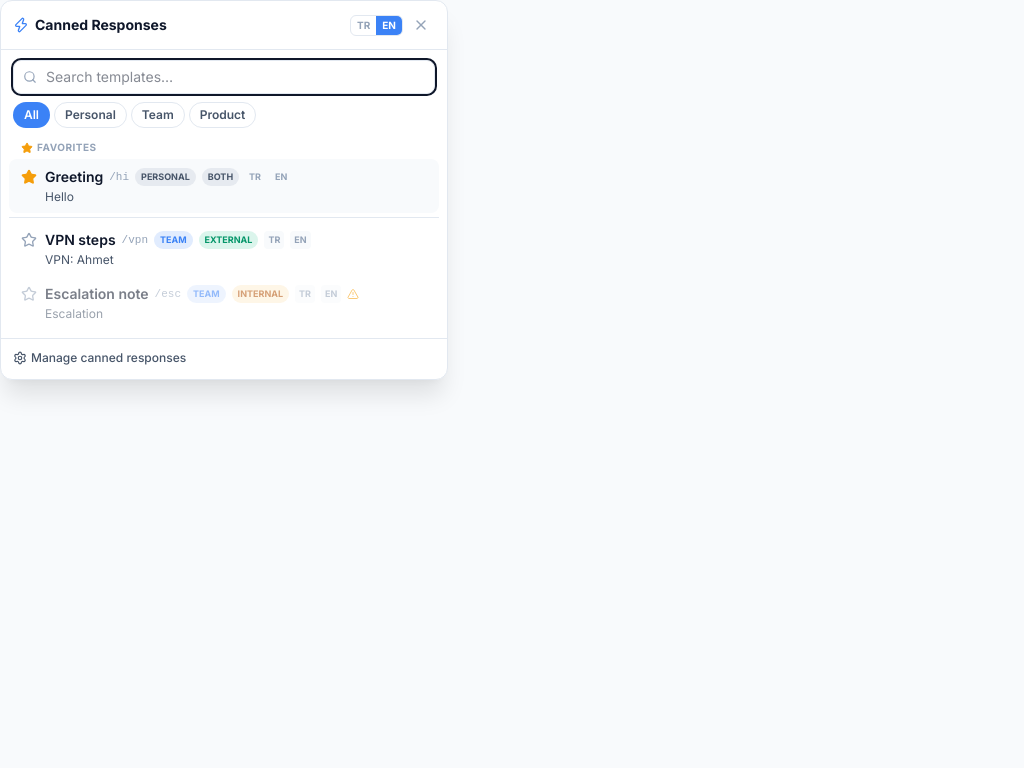
CannedResponsePicker › filters to personal scope via the tab
Click the button "Personal": (90, 115) x1=54 y1=102 x2=127 y2=128
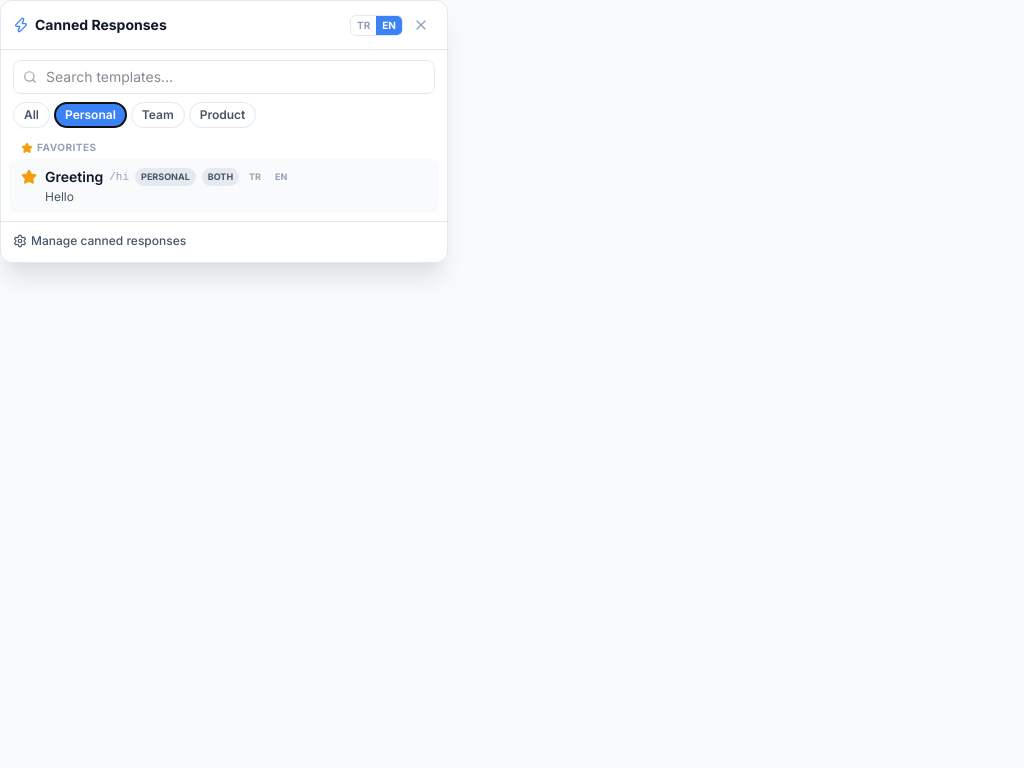
Expected: the text "Greeting" is shown, x1=45 y1=167 x2=103 y2=187
Expected: the option "VPN steps" is gone
